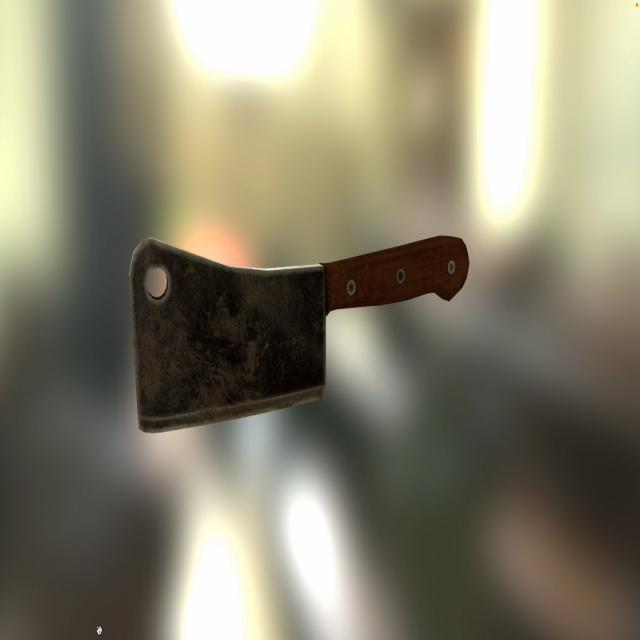cleaver: (128, 238, 476, 414)
